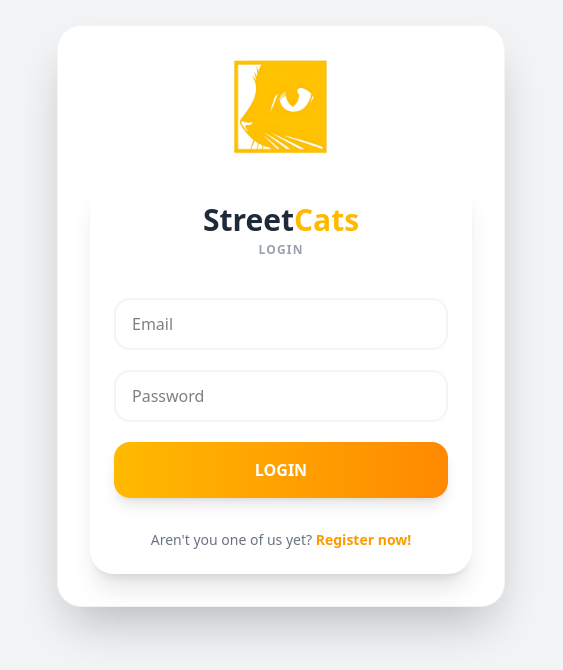
Test: StreetCats E2E - Real Integration Suite › 3. Login: should show an error if email is not valid
Type "not-an-email" into the field named "email" at (281, 324), box [114, 298, 448, 350]
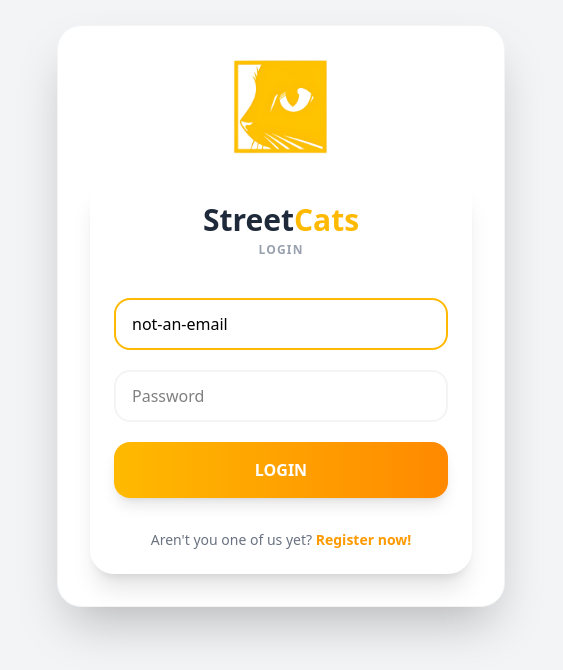
Click the submit button at (281, 470), box [114, 442, 448, 498]
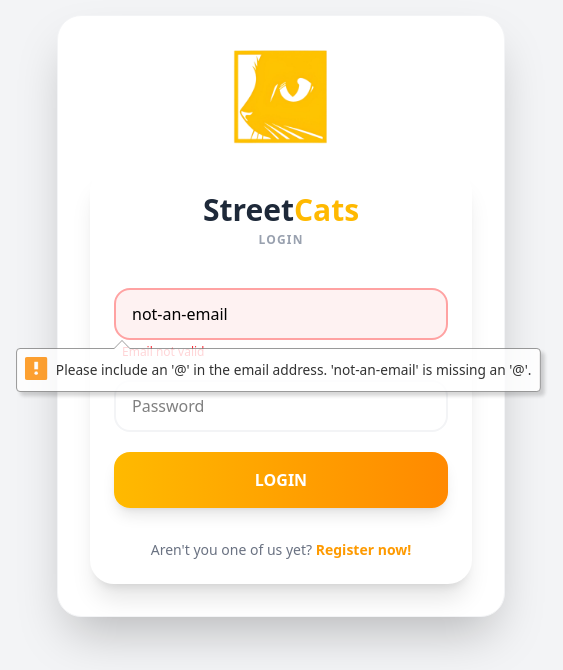
expect the text "Email not valid" is shown: met, box [122, 343, 204, 360]
